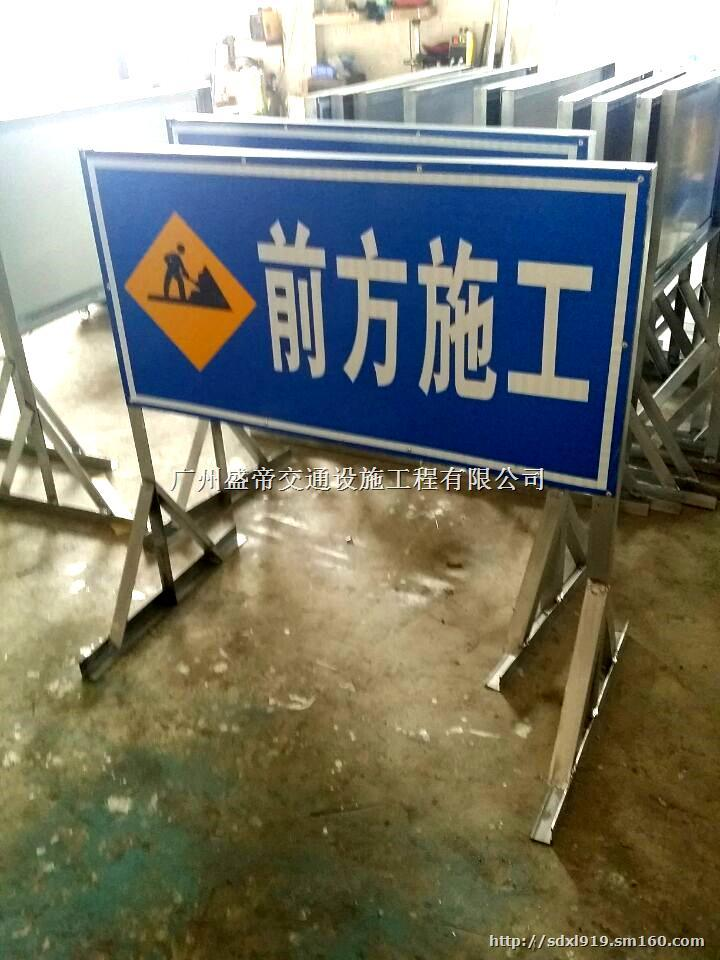sign: (87, 151, 640, 489)
